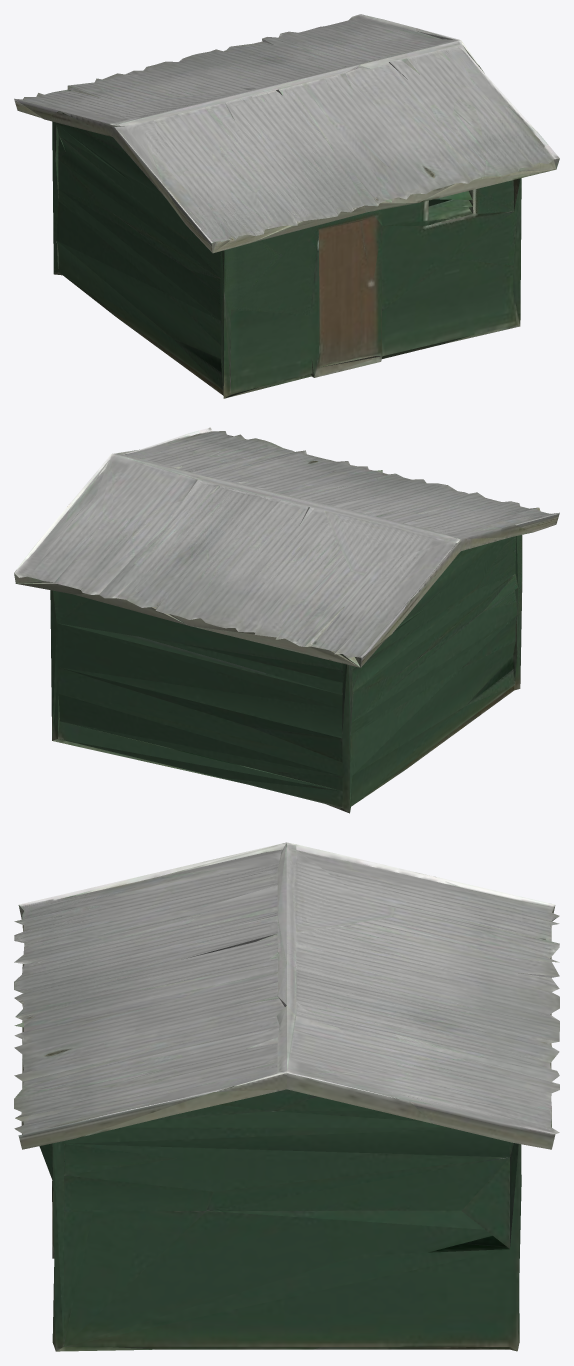
The model's file is camp_ablution.glb.
The picture shows the model from 3 angles, top to bottom: view 1: azimuth 30°, elevation 25°; view 2: azimuth 150°, elevation 25°; view 3: azimuth 270°, elevation 25°; orthographic projection. The views are drawn at different scales.
Parts seen in each view (by area): view 1: ground; view 2: ground; view 3: ground.
Part boxes in pixels (box(x1,y1,x2,y2)): ground: box(14, 14, 559, 398); ground: box(14, 427, 559, 813); ground: box(14, 842, 559, 1351).
Size of the model in its own units: 4.7 by 2.81 by 4.7.
Materials: 1 (1 with a texture image).
